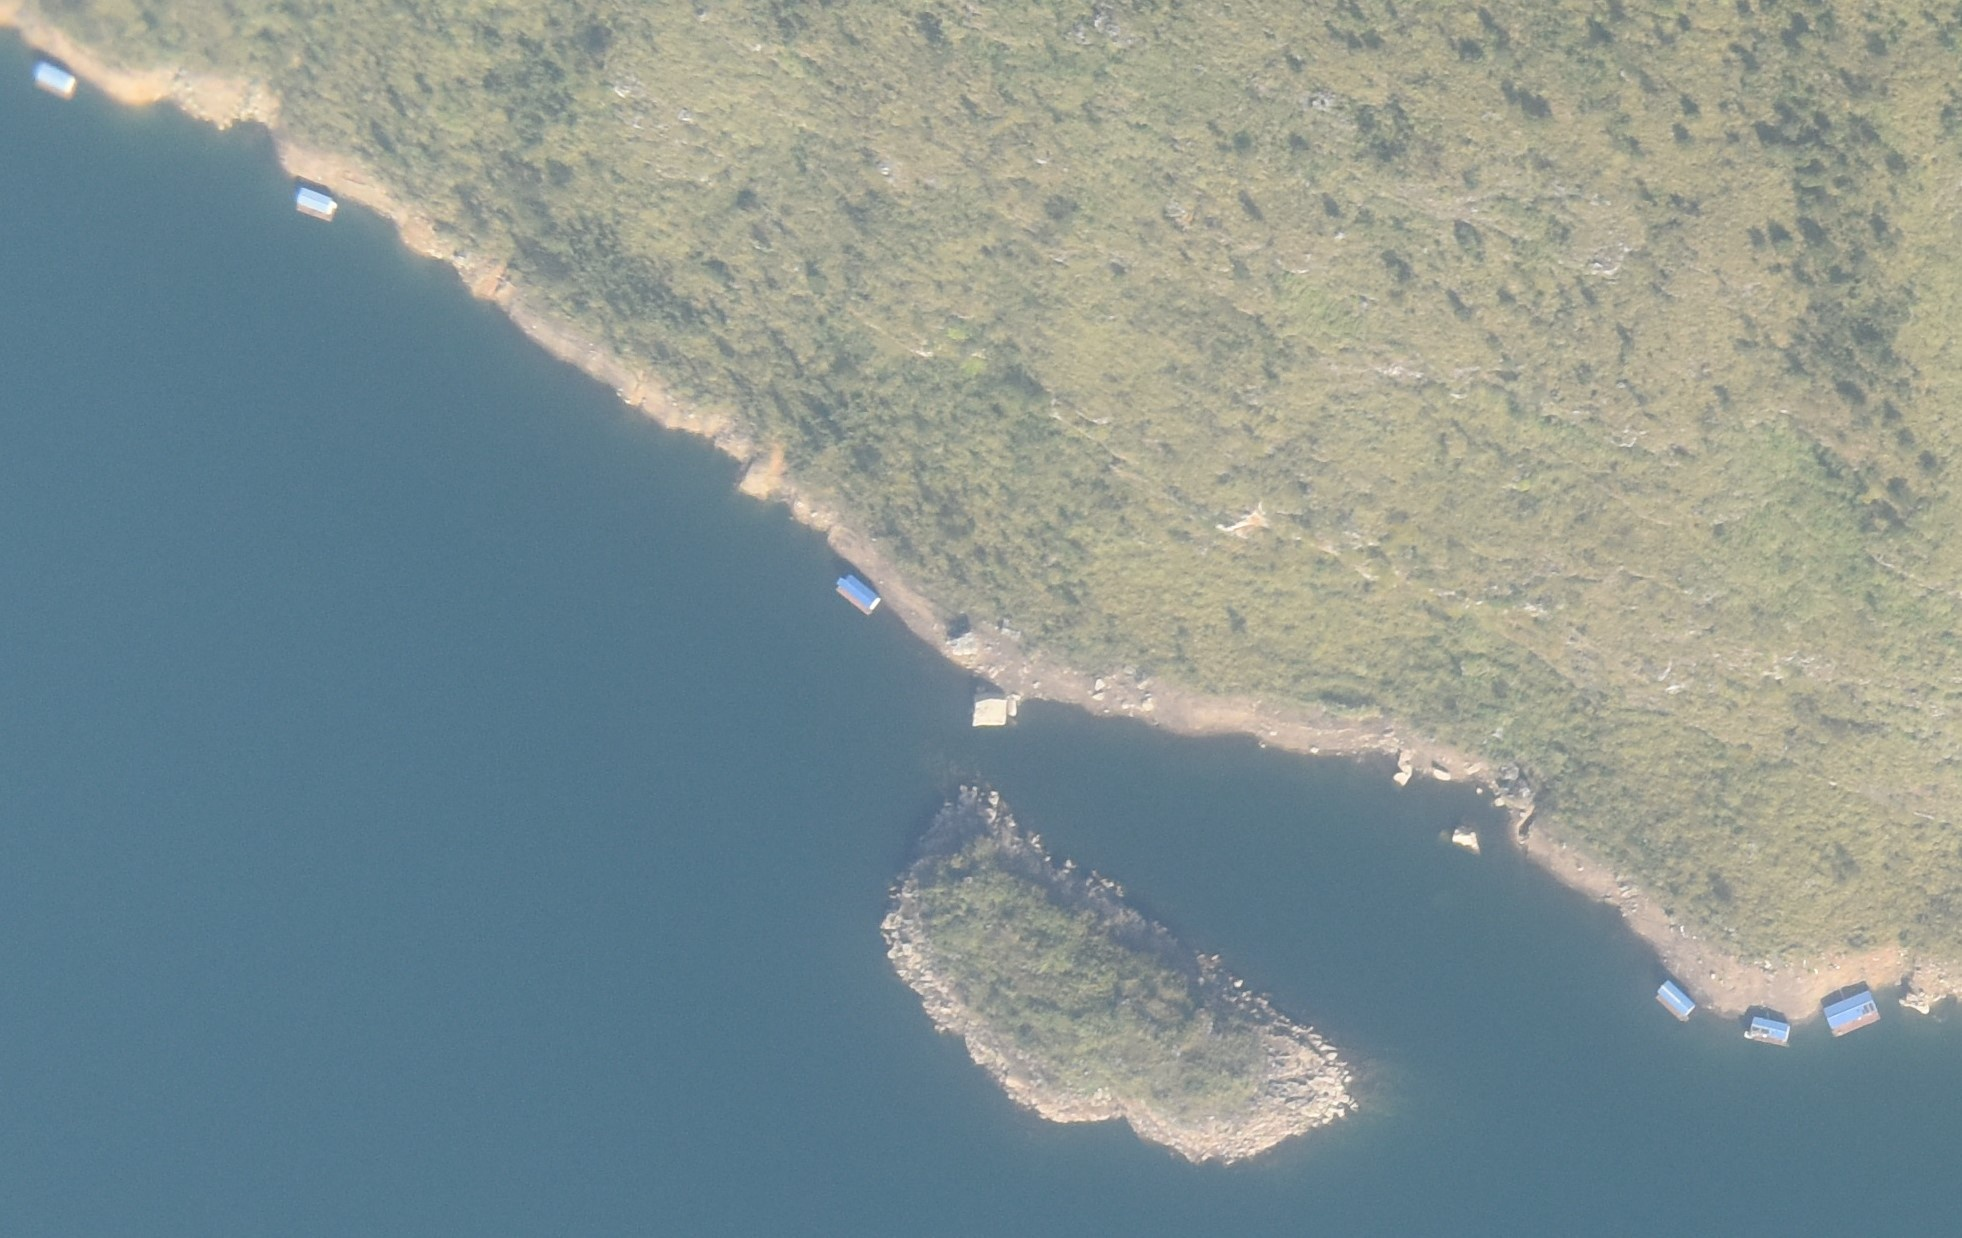prefabricated-house: (1821, 990, 1882, 1031), (837, 570, 885, 616), (287, 185, 341, 223), (1654, 977, 1692, 1018), (33, 64, 70, 97), (1748, 1016, 1787, 1044)
